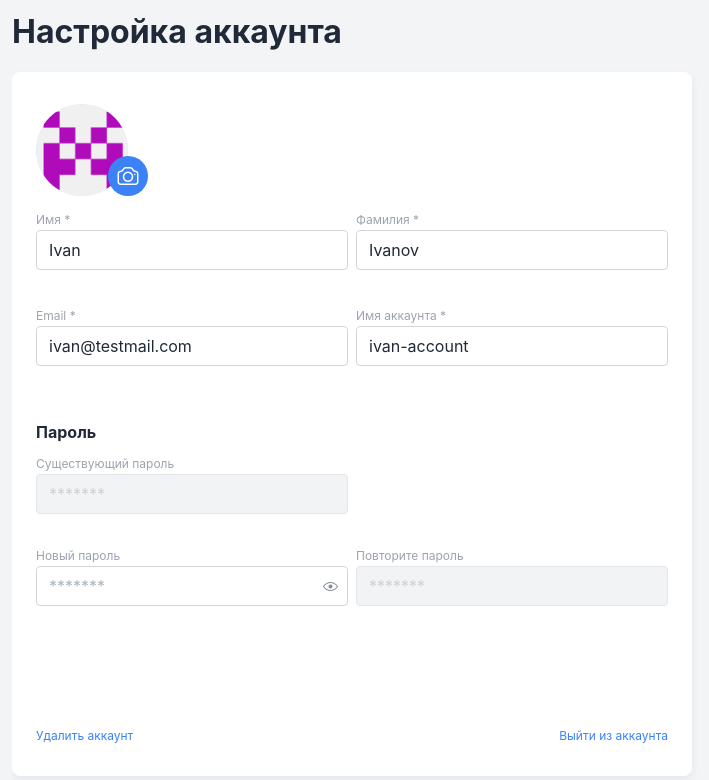
Test: ProfilePage › requires current password and matching repeat when password changes
Type "654321" into the password field labelled "Новый пароль".
click(192, 586); type("654321")  # box [37,567,347,605]
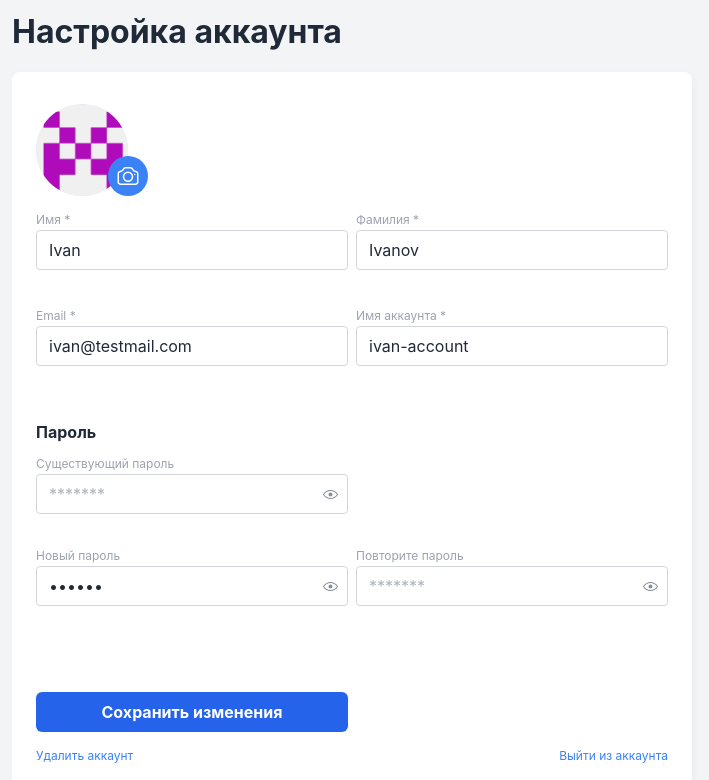
Type "111111" into the password field labelled "Повторите пароль".
click(512, 586); type("111111")  # box [357,567,667,605]
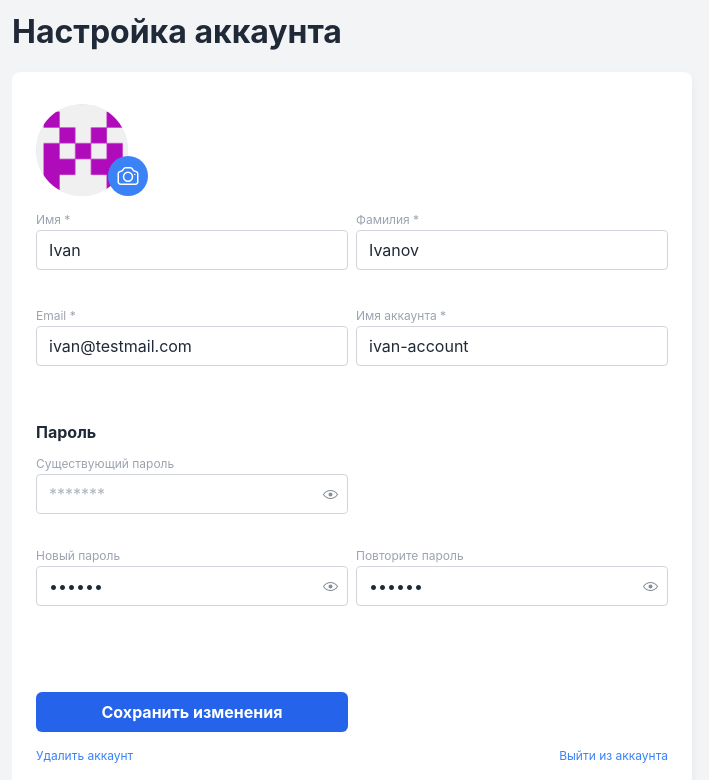
Click the button "Сохранить изменения".
click(192, 712)  # box [36,692,348,732]
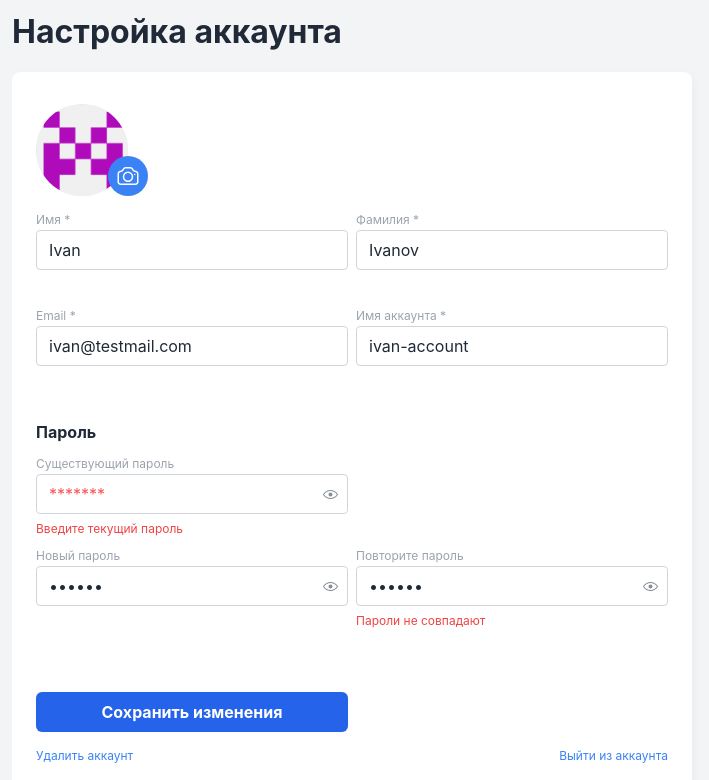
Expected: the text "Введите текущий пароль" is shown, [36,521,183,536]
Expected: the text "Пароли не совпадают" is shown, [356,613,485,628]
